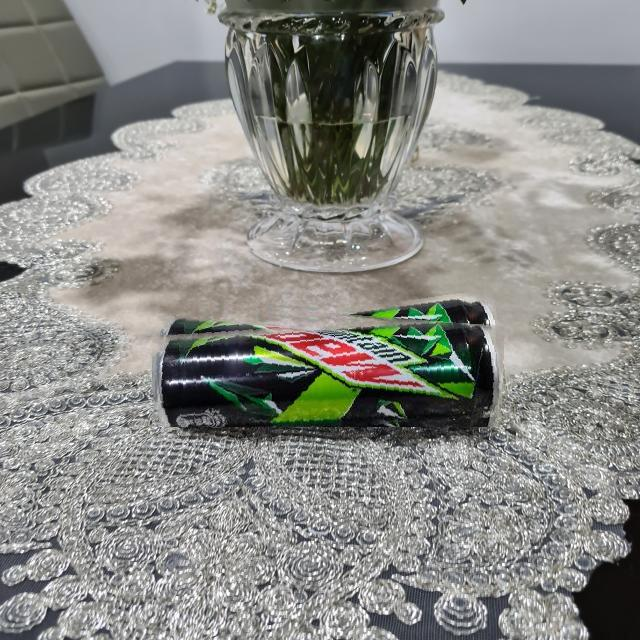recyclable: (152, 300, 505, 427)
